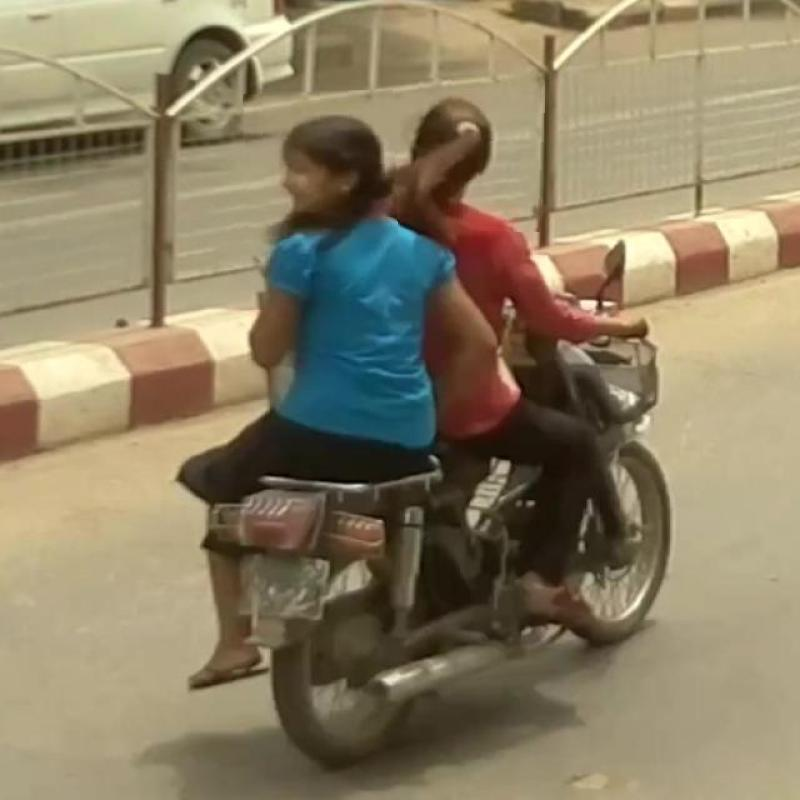nohelmet: (245, 90, 397, 240), (414, 78, 544, 231)
